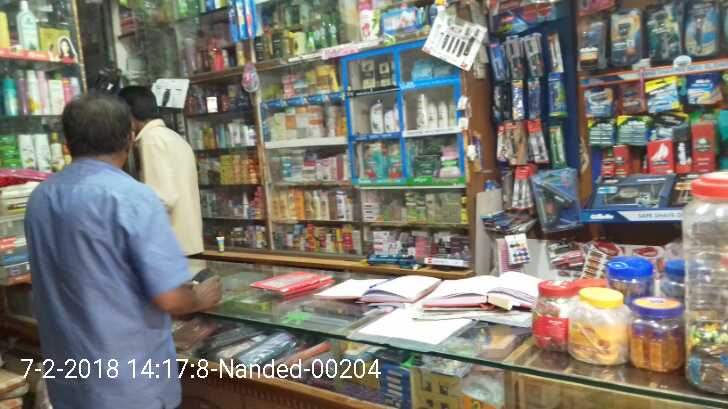gillete: (686, 1, 724, 58), (647, 2, 681, 57), (609, 8, 640, 65), (644, 80, 679, 111), (688, 75, 719, 105), (619, 116, 647, 145), (583, 89, 612, 116), (654, 113, 683, 137), (619, 84, 642, 114), (587, 119, 612, 145)
venus: (410, 59, 432, 81), (432, 59, 452, 74)
